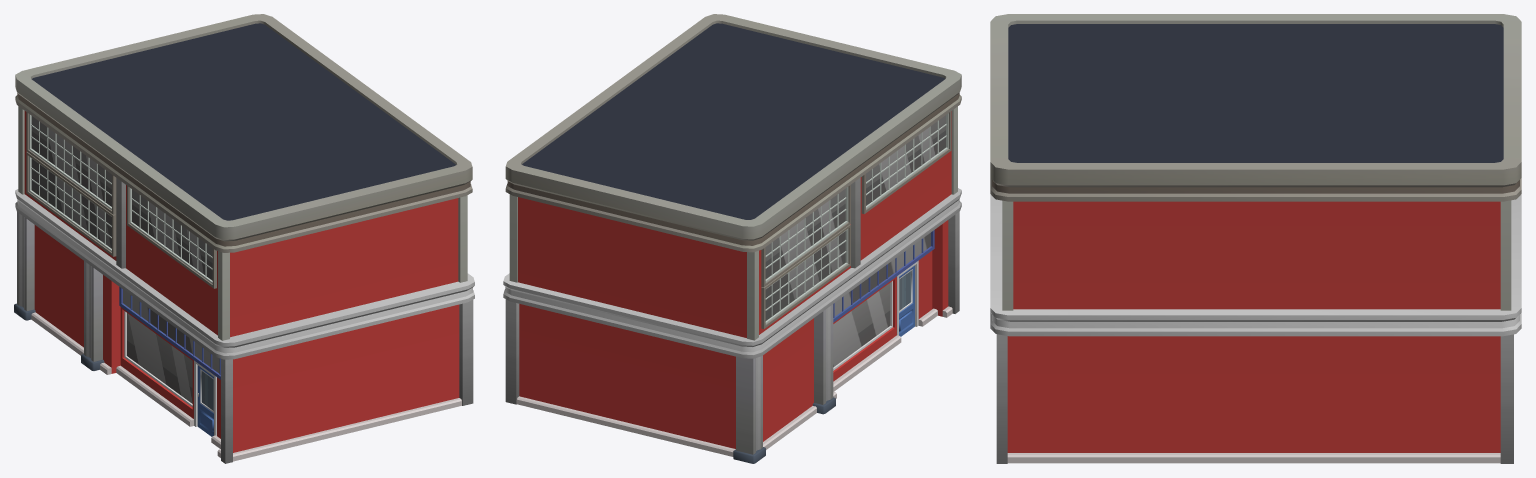
File: Building_11_3_E.fbx
The picture shows the model from 3 angles, left to right: view 1: azimuth 30°, elevation 25°; view 2: azimuth 150°, elevation 25°; view 3: azimuth 270°, elevation 25°; orthographic projection. The views are drawn at different scales.
Visible parts, largest first — view 1: Building_11_3_E; view 2: Building_11_3_E; view 3: Building_11_3_E.
Part boxes in pixels (x1=…): Building_11_3_E: x1=14, y1=14, x2=474, y2=463; Building_11_3_E: x1=503, y1=14, x2=961, y2=463; Building_11_3_E: x1=990, y1=14, x2=1521, y2=463.
Bounding box in the file's own units: 814 × 715 × 1163.
